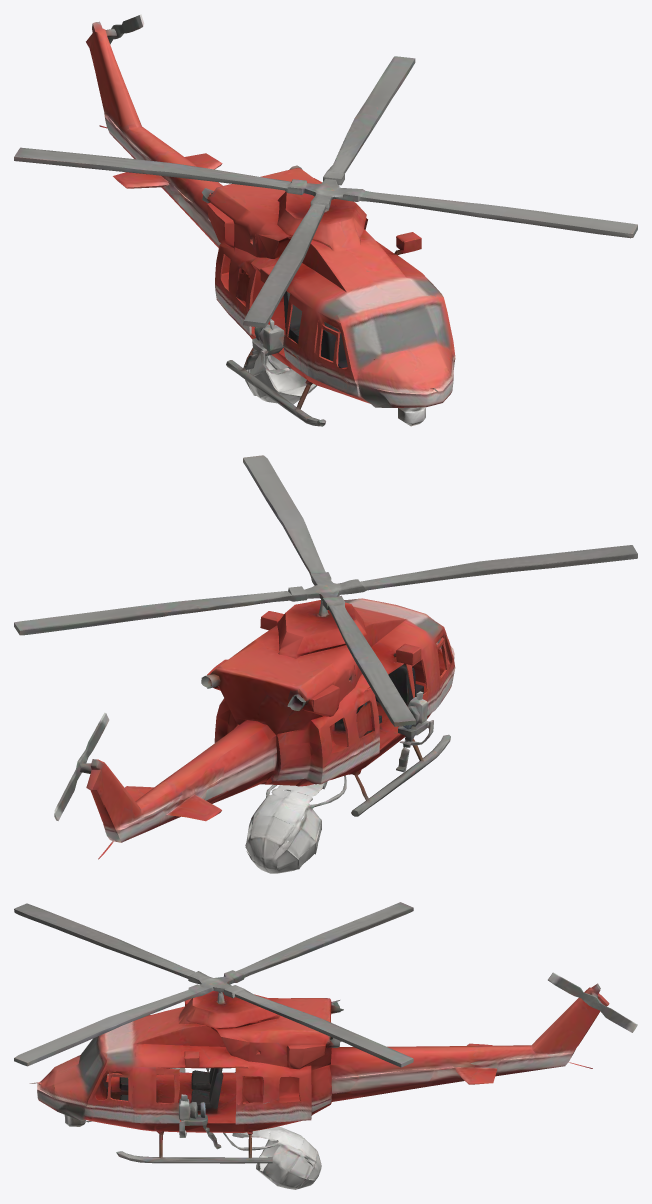
Rendered from helicoptero_bombeiros.glb.
The picture shows the model from 3 angles, top to bottom: view 1: azimuth 30°, elevation 25°; view 2: azimuth 150°, elevation 25°; view 3: azimuth 270°, elevation 25°; orthographic projection. The views are drawn at different scales.
Parts seen in each view (by area): view 1: tripo_node_cbc39751-33a9-428a-acc6-6af4769e37fa; view 2: tripo_node_cbc39751-33a9-428a-acc6-6af4769e37fa; view 3: tripo_node_cbc39751-33a9-428a-acc6-6af4769e37fa.
Boxes of the visible parts, x1,y1,x2,y2 form: tripo_node_cbc39751-33a9-428a-acc6-6af4769e37fa: (14,14,637,426); tripo_node_cbc39751-33a9-428a-acc6-6af4769e37fa: (14,455,637,873); tripo_node_cbc39751-33a9-428a-acc6-6af4769e37fa: (14,902,637,1189).
Bounding box in the file's own units: 7.69 × 4.91 × 12.5.
1 material, 1 textured.
